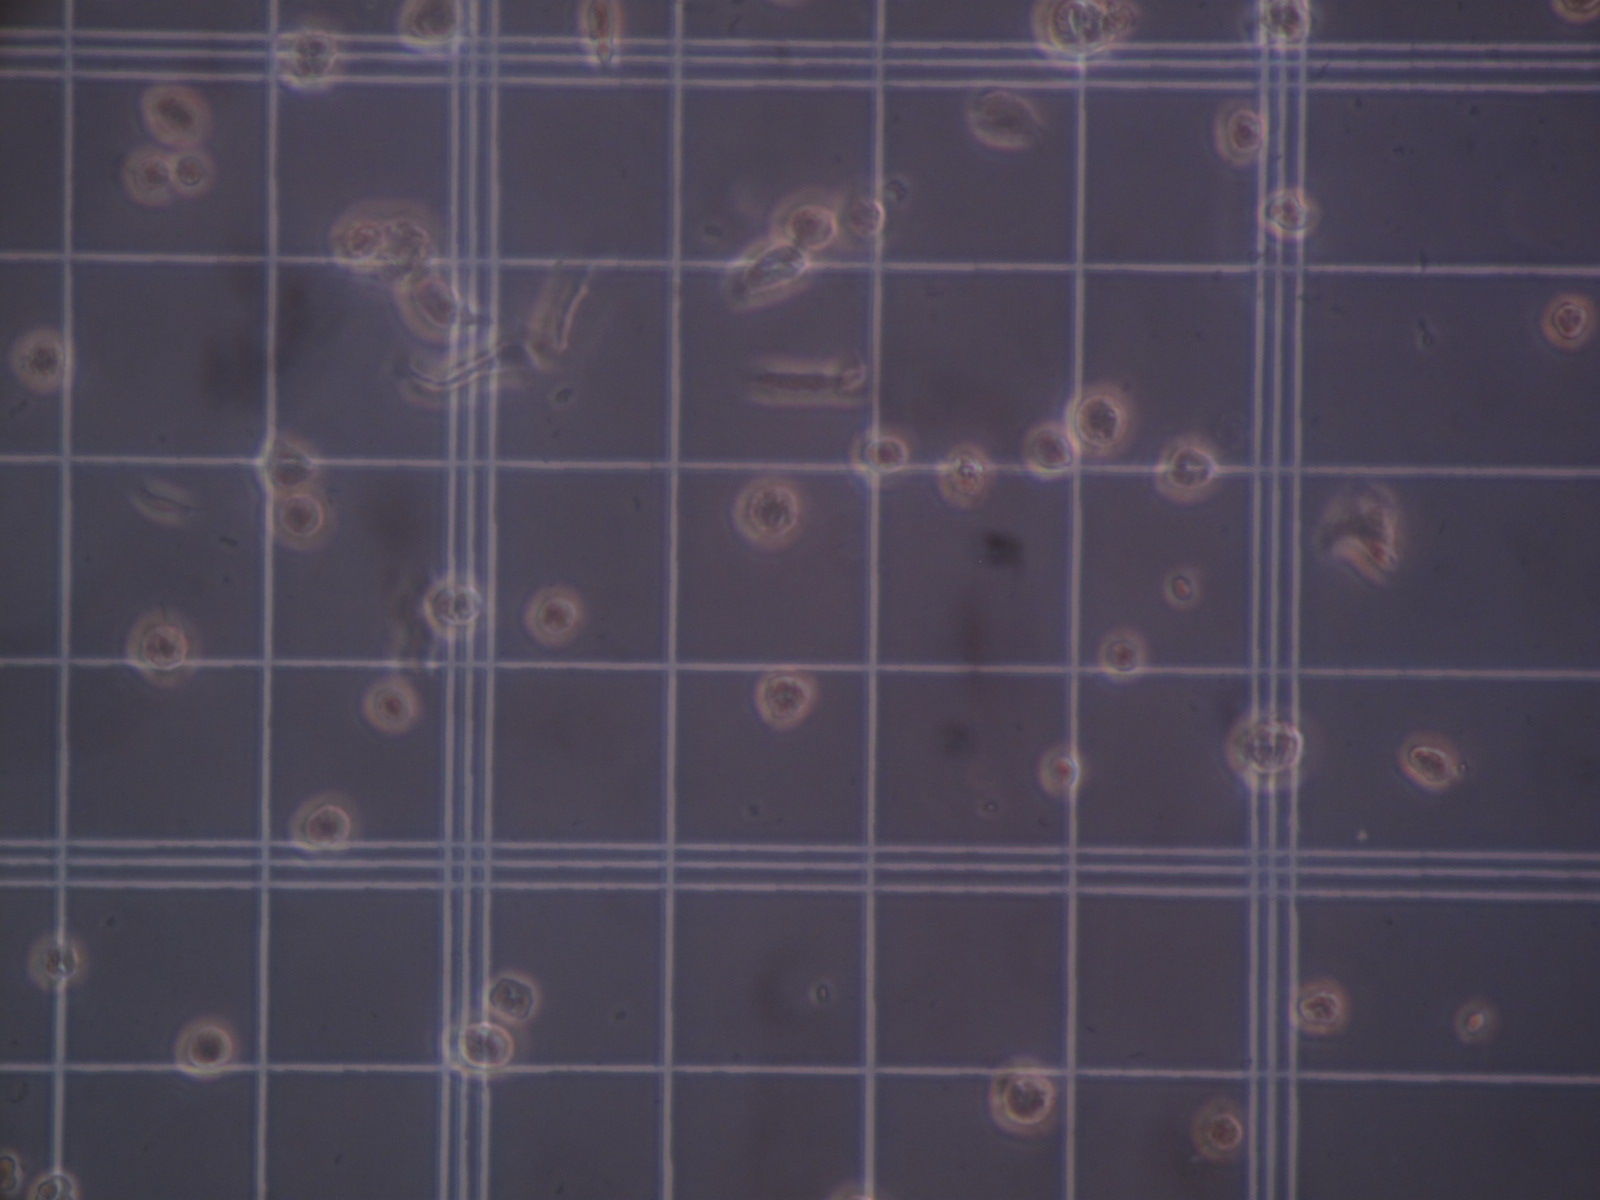hemo: (1225, 706, 1322, 794), (721, 236, 815, 316), (986, 1055, 1061, 1139), (127, 606, 202, 689), (1033, 1, 1117, 71), (769, 183, 842, 261), (732, 476, 804, 555), (1065, 384, 1138, 458), (394, 266, 462, 343), (289, 790, 359, 862), (831, 180, 901, 252), (1153, 432, 1220, 505), (964, 87, 1043, 147), (272, 26, 341, 95), (171, 1013, 239, 1082), (845, 425, 911, 494), (141, 82, 209, 147), (438, 1018, 513, 1075), (753, 666, 815, 732), (266, 492, 334, 552), (13, 326, 73, 392), (935, 442, 993, 511), (254, 434, 319, 494), (522, 586, 583, 648), (329, 203, 386, 268), (1020, 420, 1081, 480), (422, 579, 483, 639), (1395, 734, 1456, 793), (30, 932, 89, 991), (396, 1, 462, 53), (1216, 95, 1264, 166), (1288, 979, 1347, 1037), (362, 673, 418, 732), (1193, 1097, 1243, 1162), (121, 145, 174, 205), (1540, 294, 1594, 350), (483, 972, 540, 1024), (577, 1, 622, 66), (1249, 1, 1308, 50), (1257, 187, 1310, 239), (1099, 625, 1145, 682), (1036, 742, 1082, 795), (173, 146, 215, 197), (1454, 1001, 1495, 1045), (29, 1168, 79, 1200), (1164, 565, 1199, 609), (1552, 1, 1600, 26), (1, 1150, 20, 1196)
